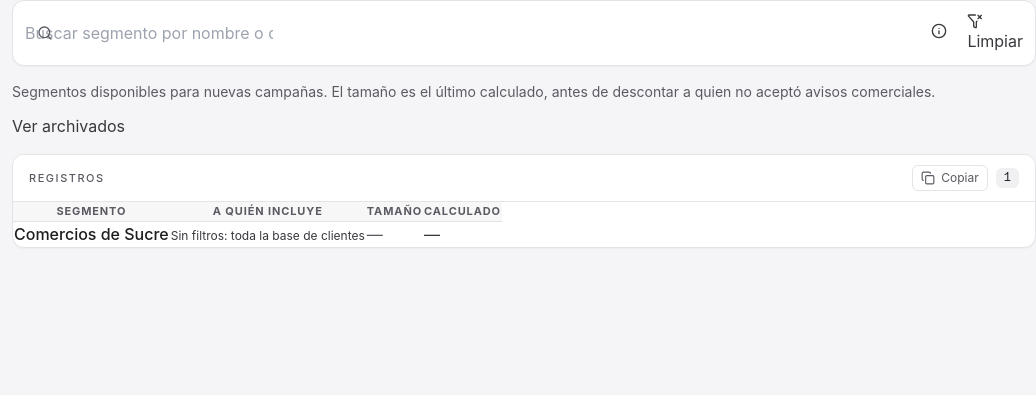
Segmentos de audiencia › el buscador viaja como q junto al estado, y sin coincidencias lo dice
Expected: the text "Comercios de Sucre" is shown, [14,222,169,246]
In the field labelled "Buscar segmento por nombre o descripción…": [149, 33] box [25,21,273,45], type "cobranza"
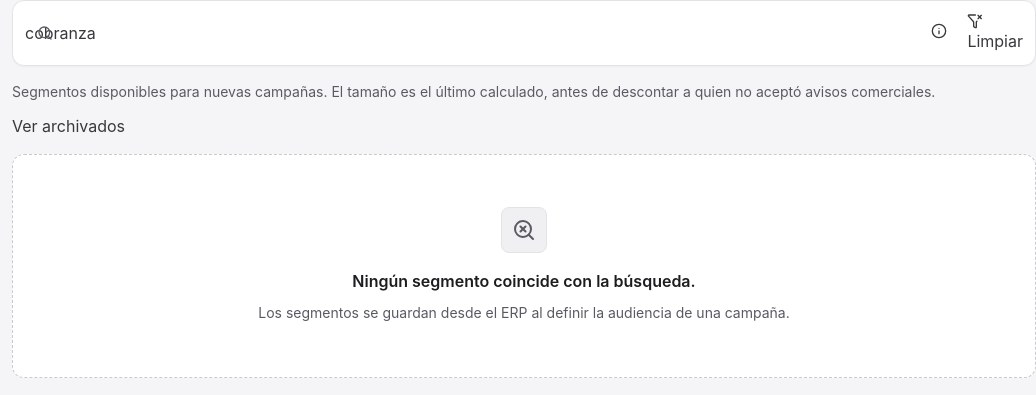
Now the heading "Ningún segmento coincide con la búsqueda." is shown, box [352,269,696,293]
